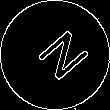N_SW: (23, 23, 87, 87)
